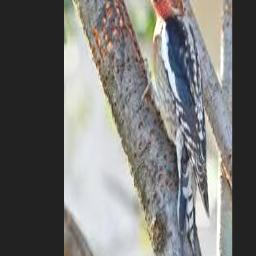Woodpecker: (136, 0, 209, 256)
